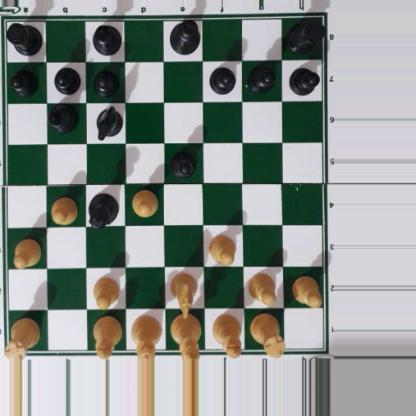black-bishop: (91, 22, 122, 54), (47, 104, 79, 133)
black-king: (169, 19, 200, 55)
black-knight: (94, 105, 121, 138)
black-pawn: (168, 147, 198, 177), (289, 65, 318, 95), (53, 65, 80, 95), (208, 64, 235, 94), (10, 67, 38, 95), (249, 64, 275, 92), (94, 66, 118, 95)
black-queen: (88, 192, 120, 230)
black-rook: (3, 20, 42, 55), (287, 15, 322, 53)
white-bishop: (211, 314, 243, 359), (93, 313, 121, 358)
white-king: (170, 311, 201, 361)
white-knight: (168, 270, 197, 317)
white-pawn: (247, 270, 278, 304), (92, 274, 120, 309), (291, 274, 322, 305), (48, 194, 79, 225), (11, 237, 41, 268), (208, 232, 235, 264), (130, 188, 158, 217)
white-queen: (130, 314, 162, 361)
white-rook: (249, 310, 286, 359), (6, 314, 39, 361)
